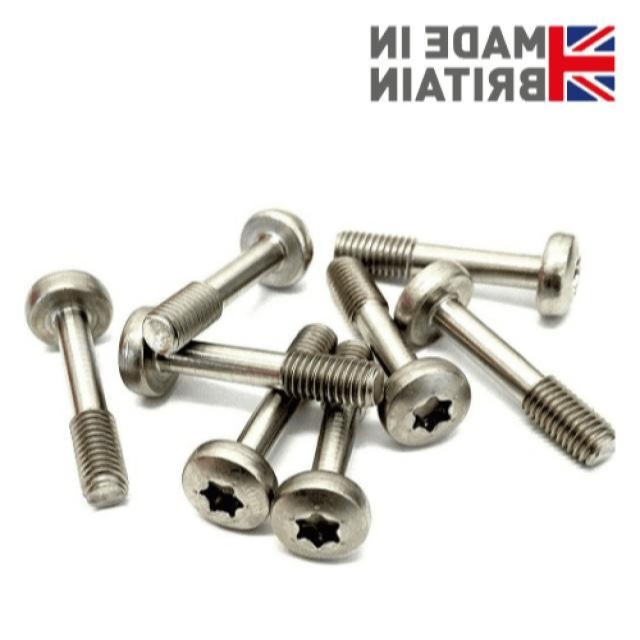torx: (270, 470, 373, 562), (180, 438, 278, 532), (379, 356, 473, 449)
